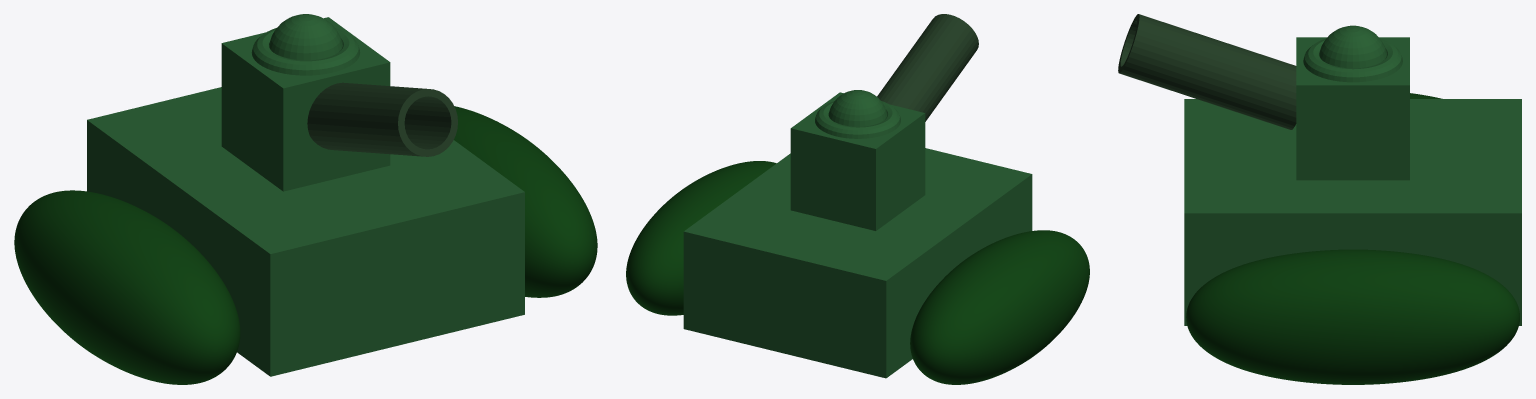
The model's file is Tank.fbx.
3 renders of one model, left to right at view 1: azimuth 30°, elevation 25°; view 2: azimuth 150°, elevation 25°; view 3: azimuth 270°, elevation 25°, orthographic. The views are drawn at different scales.
Visible parts, largest first — view 1: Tank; view 2: Tank; view 3: Tank.
Boxes of the visible parts, bbox=[...] form: Tank: bbox=[14, 14, 597, 384]; Tank: bbox=[626, 14, 1089, 384]; Tank: bbox=[1118, 14, 1521, 384].
Size of the model in its own units: 902 by 545 by 710.
